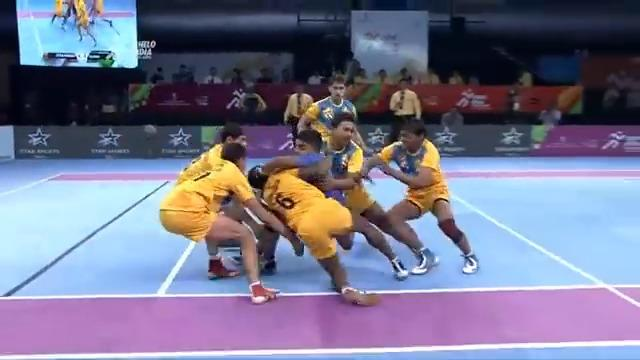Player: (158, 139, 303, 304), (247, 159, 379, 306), (358, 117, 480, 275), (296, 74, 365, 152)
Raider: (267, 129, 350, 246)
